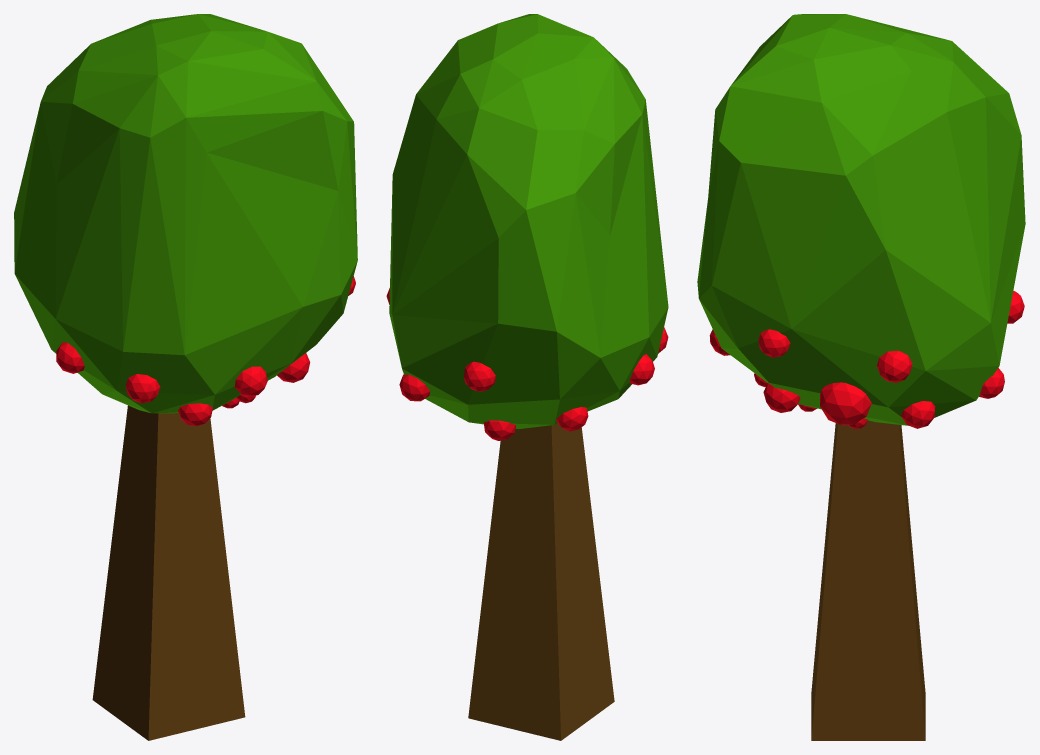
The model's file is Tree.fbx.
The picture shows the model from 3 angles, left to right: view 1: azimuth 30°, elevation 25°; view 2: azimuth 150°, elevation 25°; view 3: azimuth 270°, elevation 25°; orthographic projection. The views are drawn at different scales.
Visible parts, largest first — view 1: Tree; view 2: Tree; view 3: Tree.
Boxes of the visible parts, bbox=[...] form: Tree: bbox=[14, 14, 357, 740]; Tree: bbox=[386, 14, 668, 740]; Tree: bbox=[697, 14, 1025, 740].
Bounding box in the file's own units: 238 × 601 × 255.
